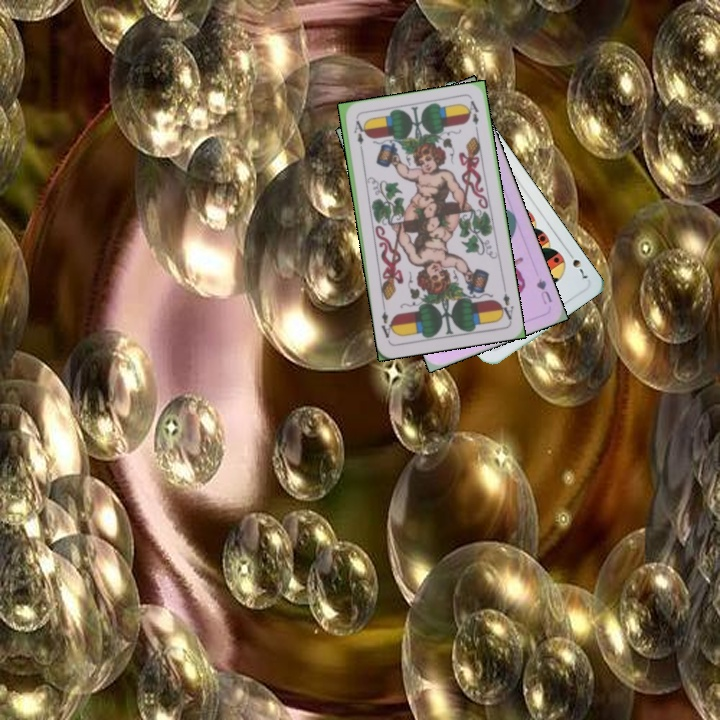EA: (495, 283, 516, 323), (350, 116, 366, 156)
GU: (532, 274, 555, 307)
S7: (563, 246, 591, 281)
